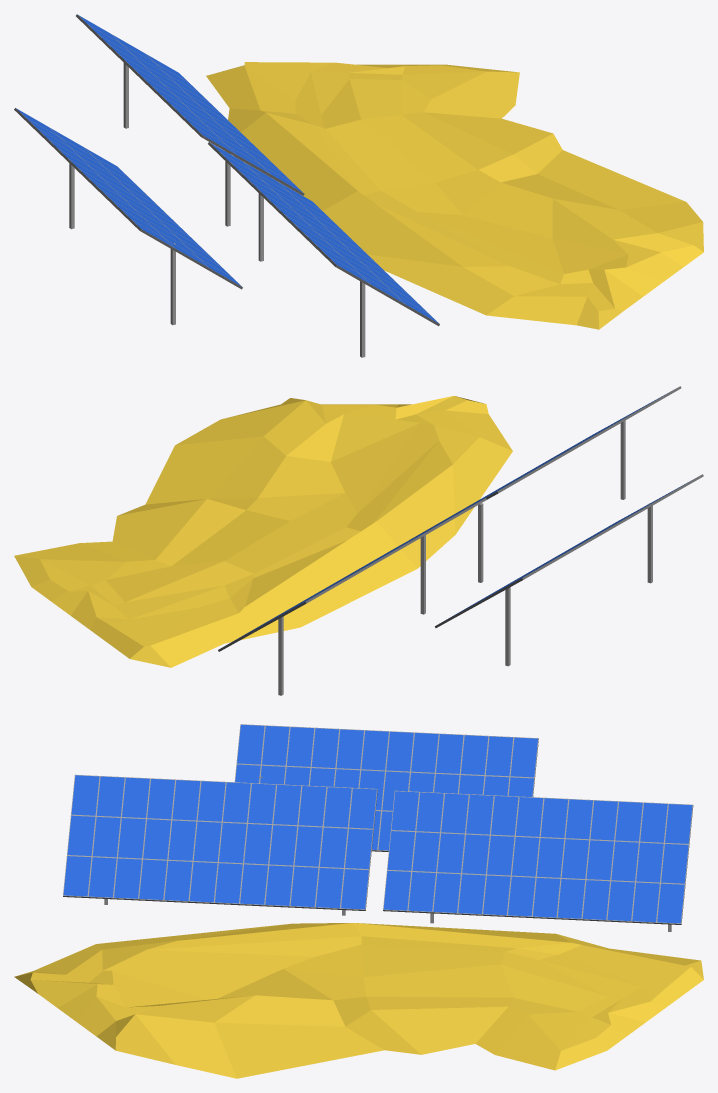
The model's file is street4_02_5.fbx.
3 renders of one model, top to bottom at view 1: azimuth 30°, elevation 25°; view 2: azimuth 150°, elevation 25°; view 3: azimuth 270°, elevation 25°, orthographic. The views are drawn at different scales.
Parts seen in each view (by area): view 1: sandWay02x03, solar03, solar01, solar02, stocks.004; view 2: sandWay02x03, stocks.004, solar01, solar02, solar03; view 3: sandWay02x03, solar03, solar01, solar02.
Part boxes in pixels (x1,y1,x2,y2): sandWay02x03: [206, 62, 703, 329]; solar03: [208, 142, 439, 326]; solar01: [76, 14, 304, 195]; solar02: [14, 108, 242, 289]; stocks.004: [69, 63, 365, 357]; sandWay02x03: [14, 396, 512, 667]; stocks.004: [278, 420, 652, 695]; solar01: [218, 498, 486, 651]; solar02: [435, 474, 703, 627]; solar03: [411, 386, 681, 538]; sandWay02x03: [14, 923, 703, 1078]; solar03: [63, 774, 377, 910]; solar01: [383, 790, 693, 924]; solar02: [234, 724, 538, 851].
Size of the model in its own units: 87.07 by 17.72 by 99.55.
